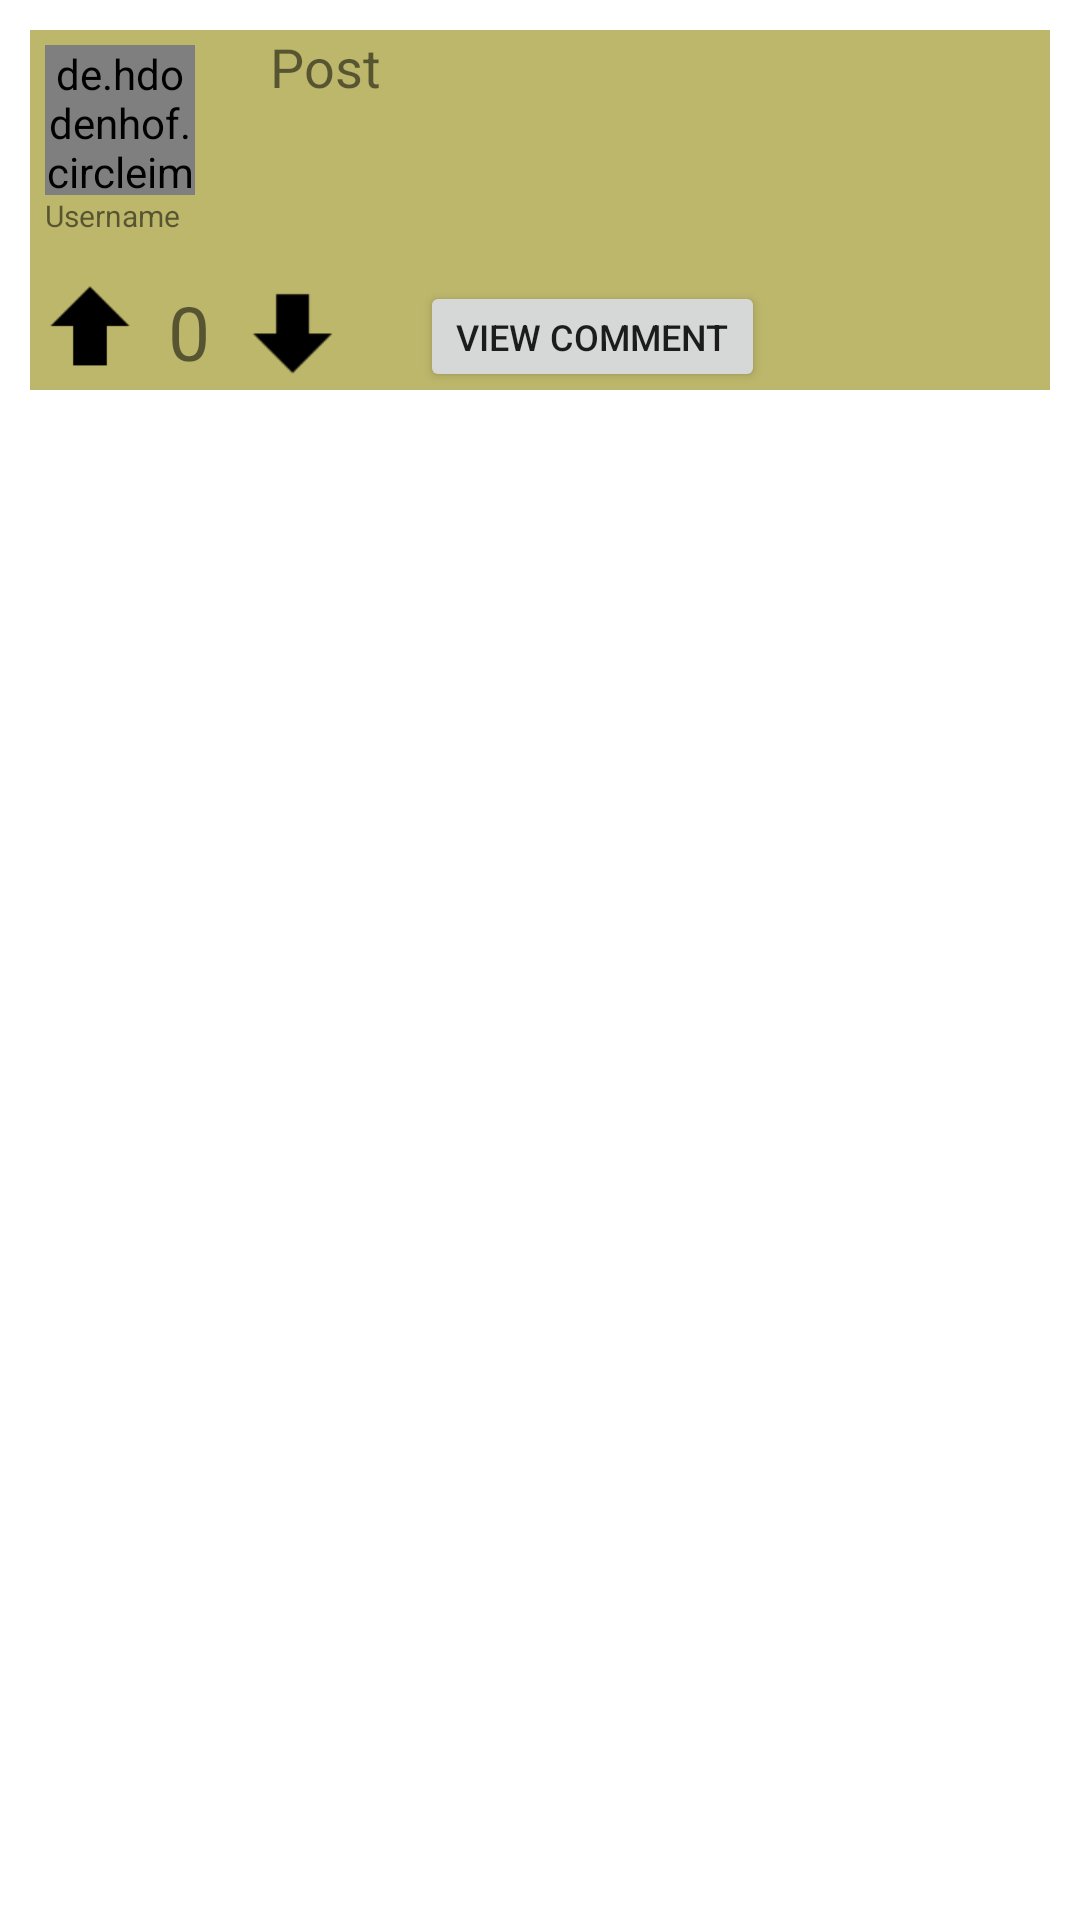

Icon click points for this 1080 x 1920 phone screenshot, format [x,y]:
downvote: [292,333]
upvote: [90,326]
